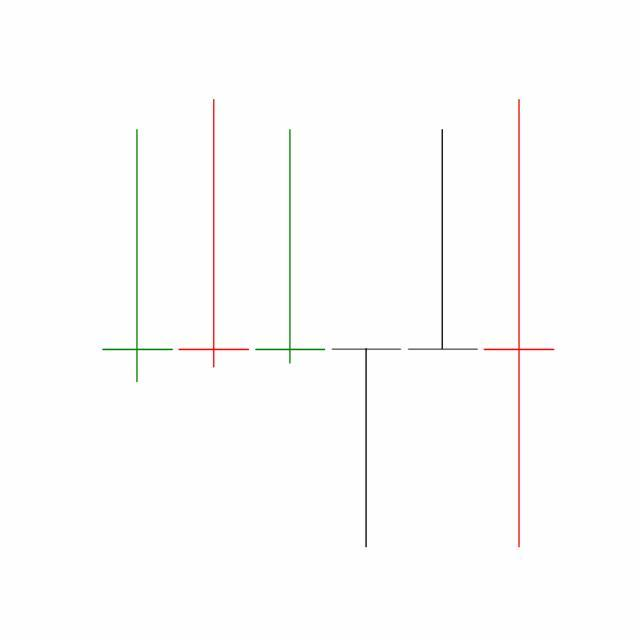Gravestone Doji: (404, 127, 482, 353)
